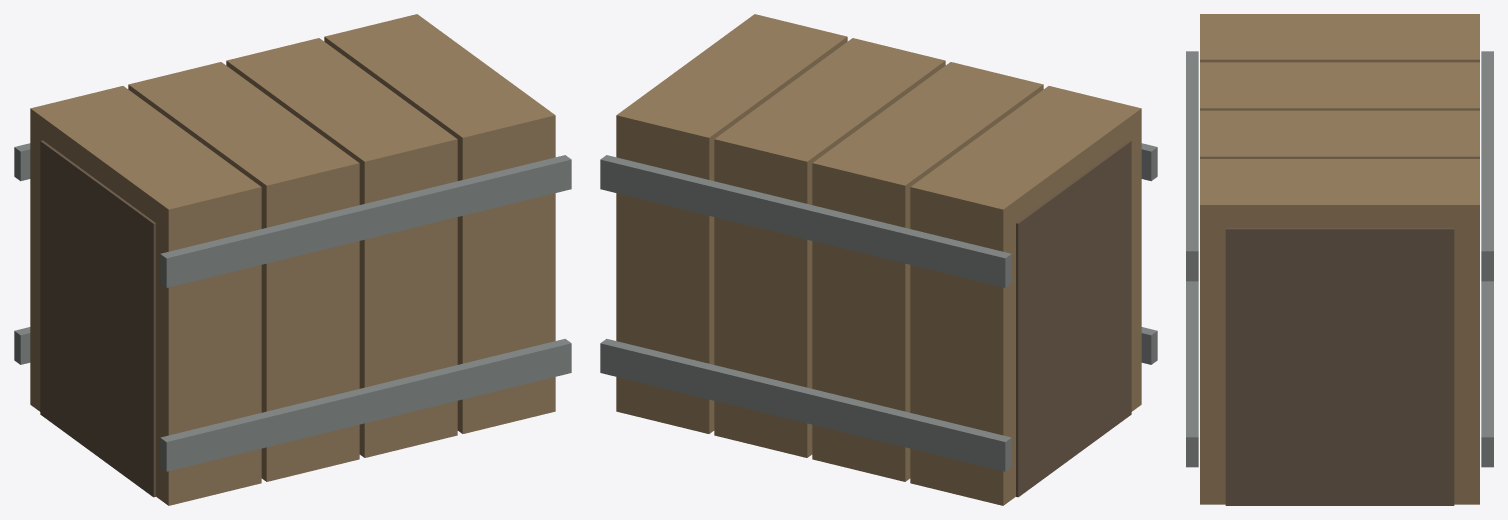
Rendered from prop_crate_c.glb.
3 renders of one model, left to right at view 1: azimuth 30°, elevation 25°; view 2: azimuth 150°, elevation 25°; view 3: azimuth 270°, elevation 25°, orthographic.
Visible parts, largest first — view 1: LOD0; view 2: LOD0; view 3: LOD0.
Part boxes in pixels (x1,y1,x2,y2): LOD0: (14,14,571,505); LOD0: (600,14,1157,505); LOD0: (1186,14,1493,505).
Bounding box in the file's own units: 0.93 × 0.65 × 0.605.
